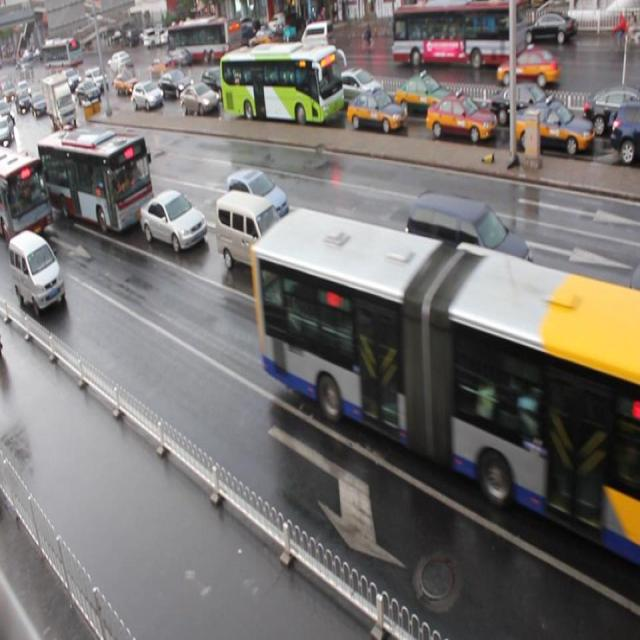car: (299, 229, 403, 321), (514, 100, 594, 160), (138, 187, 206, 252), (225, 166, 290, 231), (426, 92, 497, 144), (488, 80, 560, 130), (608, 331, 640, 434), (394, 72, 459, 119), (345, 88, 406, 134), (582, 89, 640, 134), (329, 64, 384, 109), (609, 100, 640, 161), (21, 159, 61, 204), (65, 129, 97, 170), (179, 82, 219, 112), (131, 80, 164, 112), (201, 66, 233, 98), (159, 70, 193, 98), (114, 67, 139, 95)
truck: (438, 240, 567, 389), (406, 188, 534, 304), (214, 186, 289, 282), (10, 228, 64, 318)
van: (250, 205, 640, 568), (38, 126, 154, 235), (216, 42, 339, 125), (1, 144, 55, 246)
